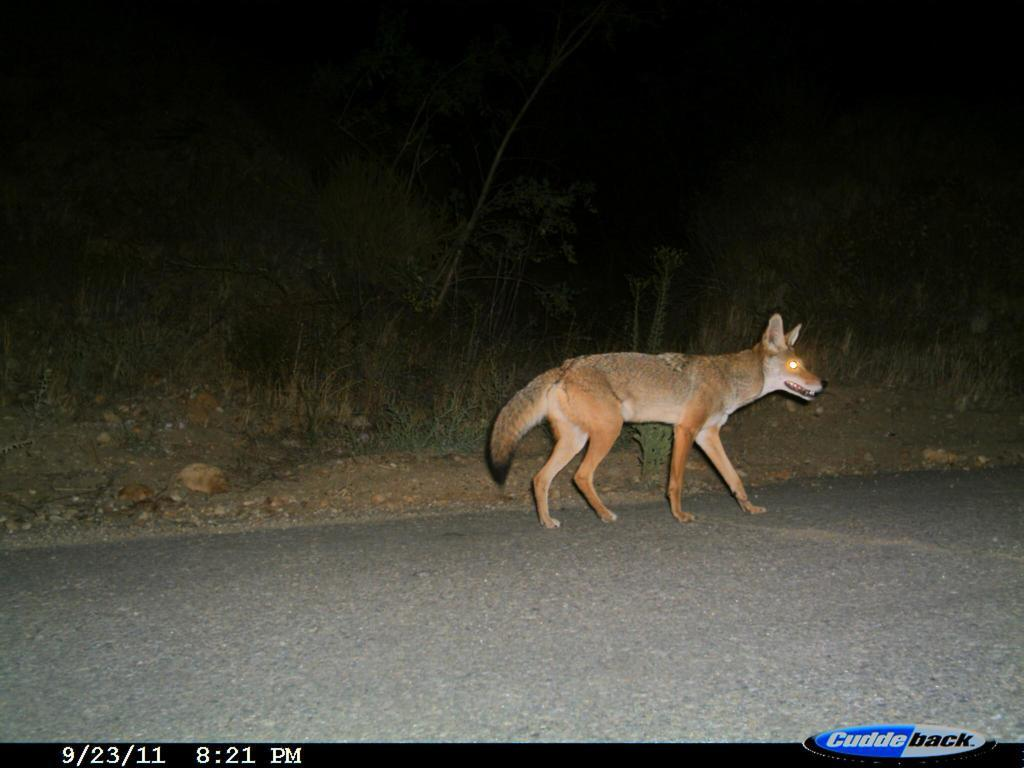coyote: (479, 310, 831, 534)
